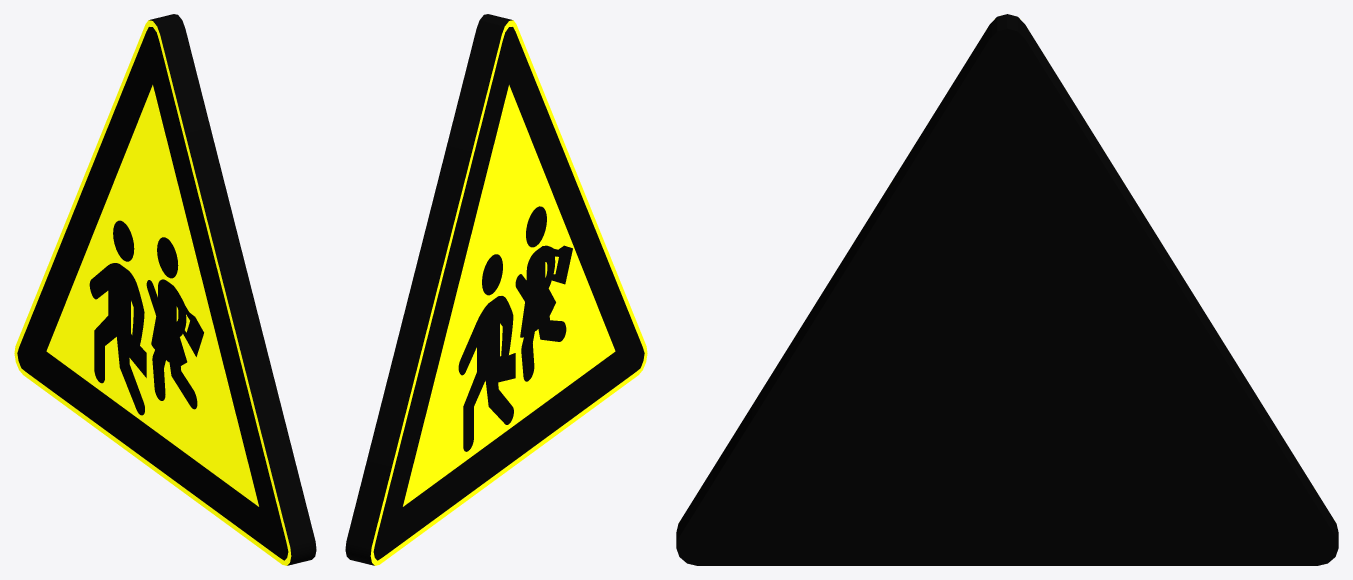
Rendered from Pay_Attention_To_Children.glb.
3 renders of one model, left to right at view 1: azimuth 30°, elevation 25°; view 2: azimuth 150°, elevation 25°; view 3: azimuth 270°, elevation 25°, orthographic. The views are drawn at different scales.
Visible parts, largest first — view 1: Pay_Attention_To_Children; view 2: Pay_Attention_To_Children; view 3: Pay_Attention_To_Children.
Boxes of the visible parts, x1=… form: Pay_Attention_To_Children: x1=14, y1=14, x2=316, y2=565; Pay_Attention_To_Children: x1=345, y1=14, x2=647, y2=565; Pay_Attention_To_Children: x1=676, y1=14, x2=1338, y2=565.
Size of the model in its own units: 0.075 by 1.02 by 1.14.
